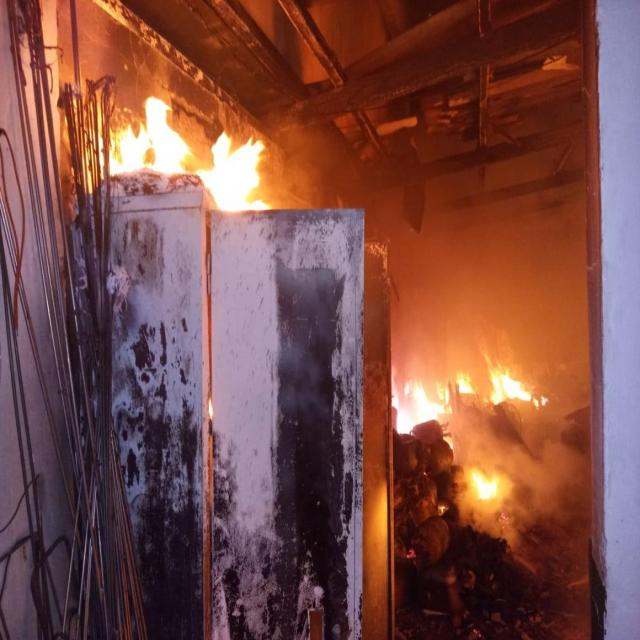fire: (389, 339, 549, 543), (99, 88, 287, 221)
